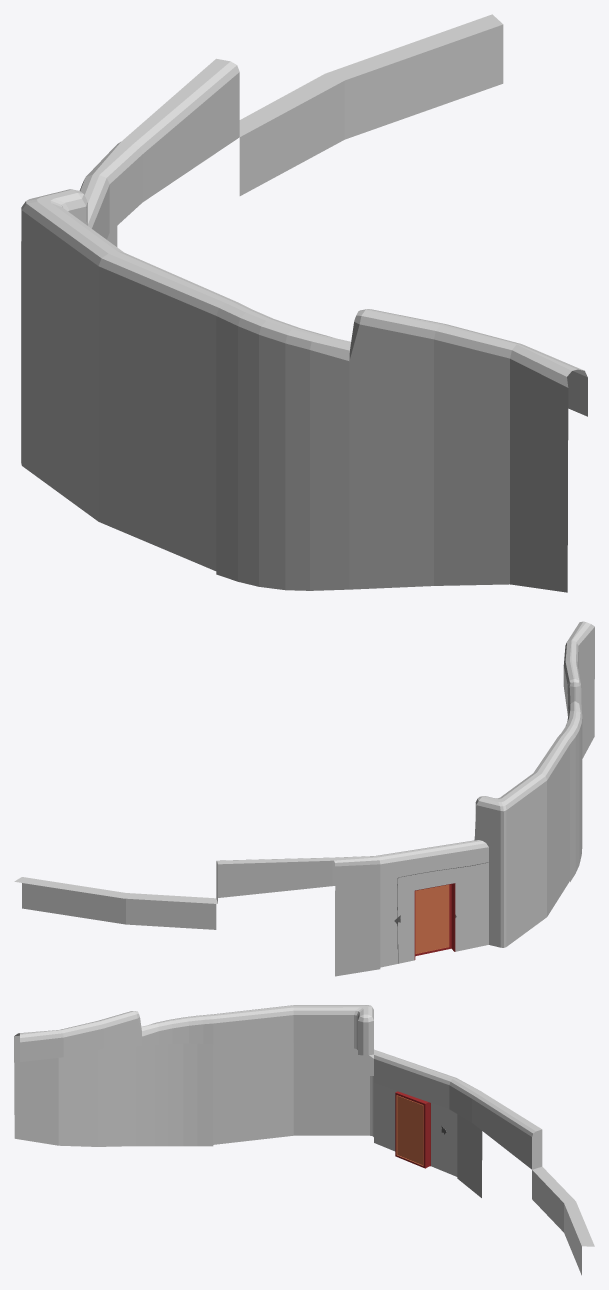
File: wall01.fbx
3 renders of one model, top to bottom at view 1: azimuth 30°, elevation 25°; view 2: azimuth 150°, elevation 25°; view 3: azimuth 270°, elevation 25°, orthographic. The views are drawn at different scales.
Parts seen in each view (by area): view 1: Wall01; view 2: Wall01; view 3: Wall01.
Boxes of the visible parts, x1=… form: Wall01: x1=21, y1=14, x2=587, y2=592; Wall01: x1=14, y1=621, x2=594, y2=976; Wall01: x1=14, y1=1005, x2=594, y2=1275.
Size of the model in its own units: 1026 by 460 by 1485.
